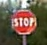stop: (10, 8, 36, 34)
